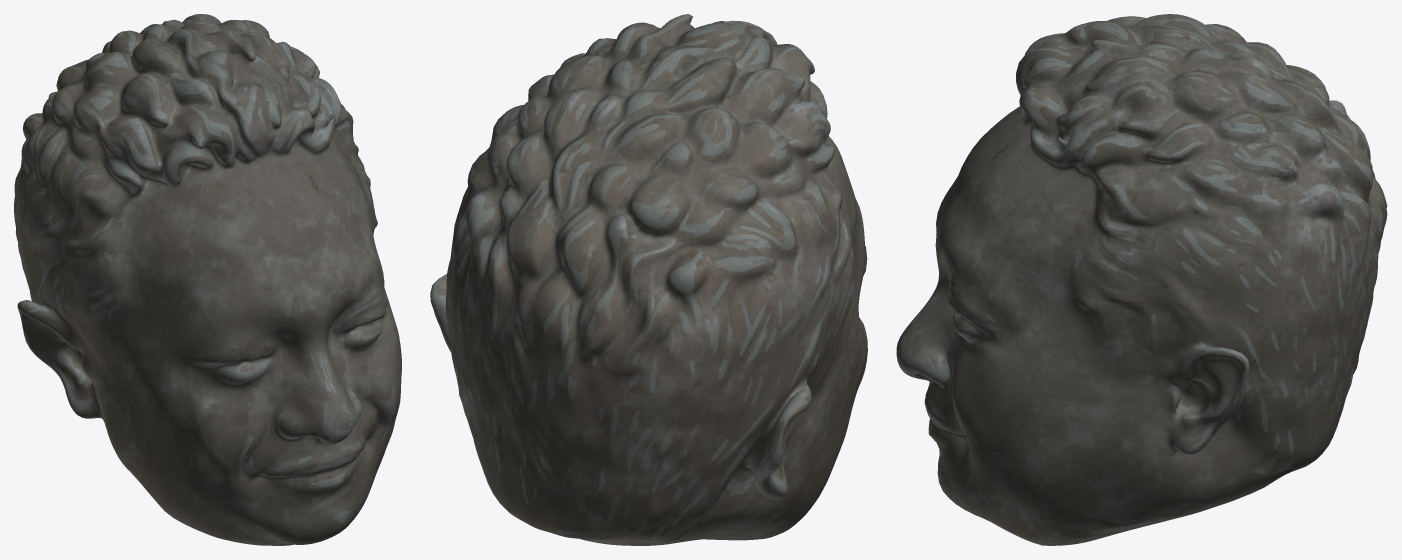
Rendered from Patung_Pak Fai.fbx.
3 views of the same model, side by side, from view 1: azimuth 30°, elevation 25°; view 2: azimuth 150°, elevation 25°; view 3: azimuth 270°, elevation 25° (orthographic). The views are drawn at different scales.
Parts seen in each view (by area): view 1: 1 lowres; view 2: 1 lowres; view 3: 1 lowres.
Part boxes in pixels (box(x1,y1,x2,y2)): 1 lowres: box(14, 14, 401, 545); 1 lowres: box(430, 14, 867, 545); 1 lowres: box(896, 14, 1387, 545).
Bounding box in the file's own units: 0.204 × 0.2562 × 0.2816.
1 material, 1 textured.
